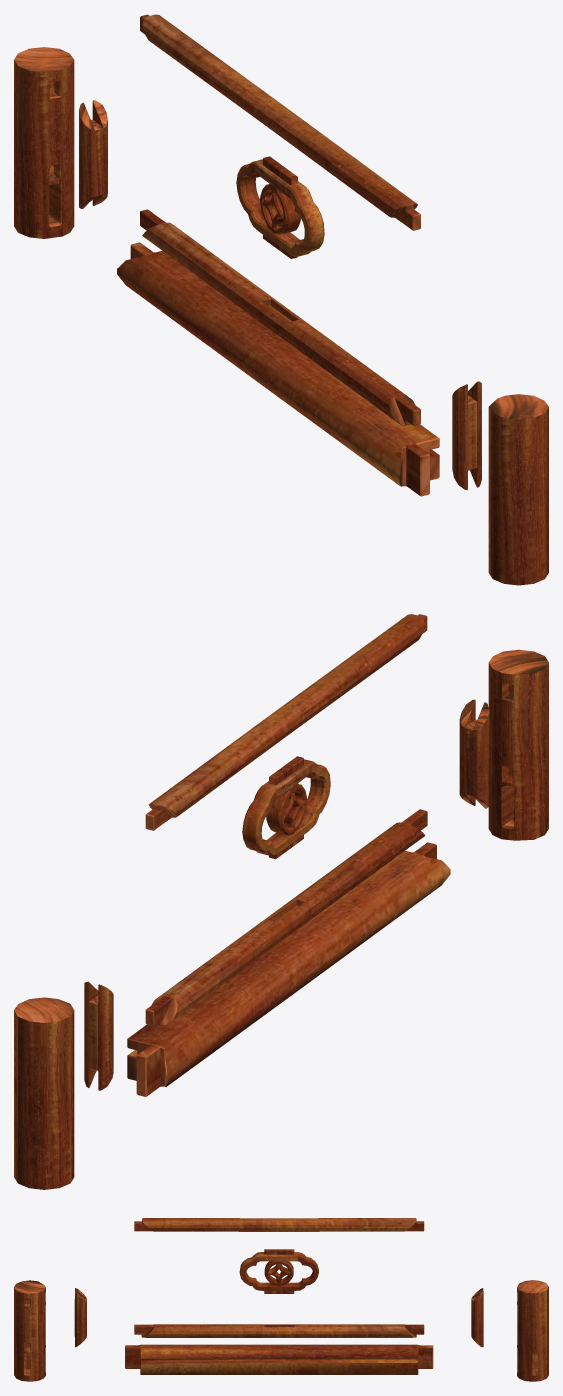
The model's file is SJ_J_motou_1_02.FBX.
The picture shows the model from 3 angles, top to bottom: view 1: azimuth 30°, elevation 25°; view 2: azimuth 150°, elevation 25°; view 3: azimuth 270°, elevation 25°; orthographic projection. The views are drawn at different scales.
Parts seen in each view (by area): view 1: SJ_J_motou_1_02, SJ_J_tui_04, SJ_J_tui_03, SJ_J_cehengzhang_1_008, SJ_J_cehengzhang_1_007, SJ_J_hua_1_010, SJ_J_shugan_1_013, SJ_J_shugan_1_015; view 2: SJ_J_motou_1_02, SJ_J_tui_04, SJ_J_tui_03, SJ_J_cehengzhang_1_008, SJ_J_cehengzhang_1_007, SJ_J_hua_1_010, SJ_J_shugan_1_013, SJ_J_shugan_1_015; view 3: SJ_J_motou_1_02, SJ_J_cehengzhang_1_008, SJ_J_cehengzhang_1_007, SJ_J_tui_04, SJ_J_tui_03, SJ_J_hua_1_010, SJ_J_shugan_1_015, SJ_J_shugan_1_013.
Boxes of the visible parts, x1,y1,x2,y2 form: SJ_J_motou_1_02: [117, 242, 439, 496]; SJ_J_tui_04: [14, 47, 74, 238]; SJ_J_tui_03: [488, 394, 548, 585]; SJ_J_cehengzhang_1_008: [140, 209, 420, 425]; SJ_J_cehengzhang_1_007: [140, 14, 420, 230]; SJ_J_hua_1_010: [236, 156, 324, 258]; SJ_J_shugan_1_013: [452, 381, 481, 490]; SJ_J_shugan_1_015: [79, 100, 107, 208]; SJ_J_motou_1_02: [127, 842, 450, 1096]; SJ_J_tui_04: [14, 997, 74, 1189]; SJ_J_tui_03: [488, 649, 548, 840]; SJ_J_cehengzhang_1_008: [145, 809, 427, 1026]; SJ_J_cehengzhang_1_007: [145, 614, 427, 830]; SJ_J_hua_1_010: [242, 756, 330, 859]; SJ_J_shugan_1_013: [459, 699, 489, 808]; SJ_J_shugan_1_015: [84, 981, 113, 1090]; SJ_J_motou_1_02: [125, 1344, 433, 1374]; SJ_J_cehengzhang_1_008: [134, 1324, 424, 1337]; SJ_J_cehengzhang_1_007: [134, 1218, 424, 1231]; SJ_J_tui_04: [517, 1280, 548, 1381]; SJ_J_tui_03: [14, 1280, 45, 1381]; SJ_J_hua_1_010: [239, 1249, 318, 1293]; SJ_J_shugan_1_015: [471, 1288, 483, 1347]; SJ_J_shugan_1_013: [74, 1288, 86, 1347].
Size of the model in its own units: 4.05 by 21.59 by 67.56.
Materials: 2 (2 with a texture image).
